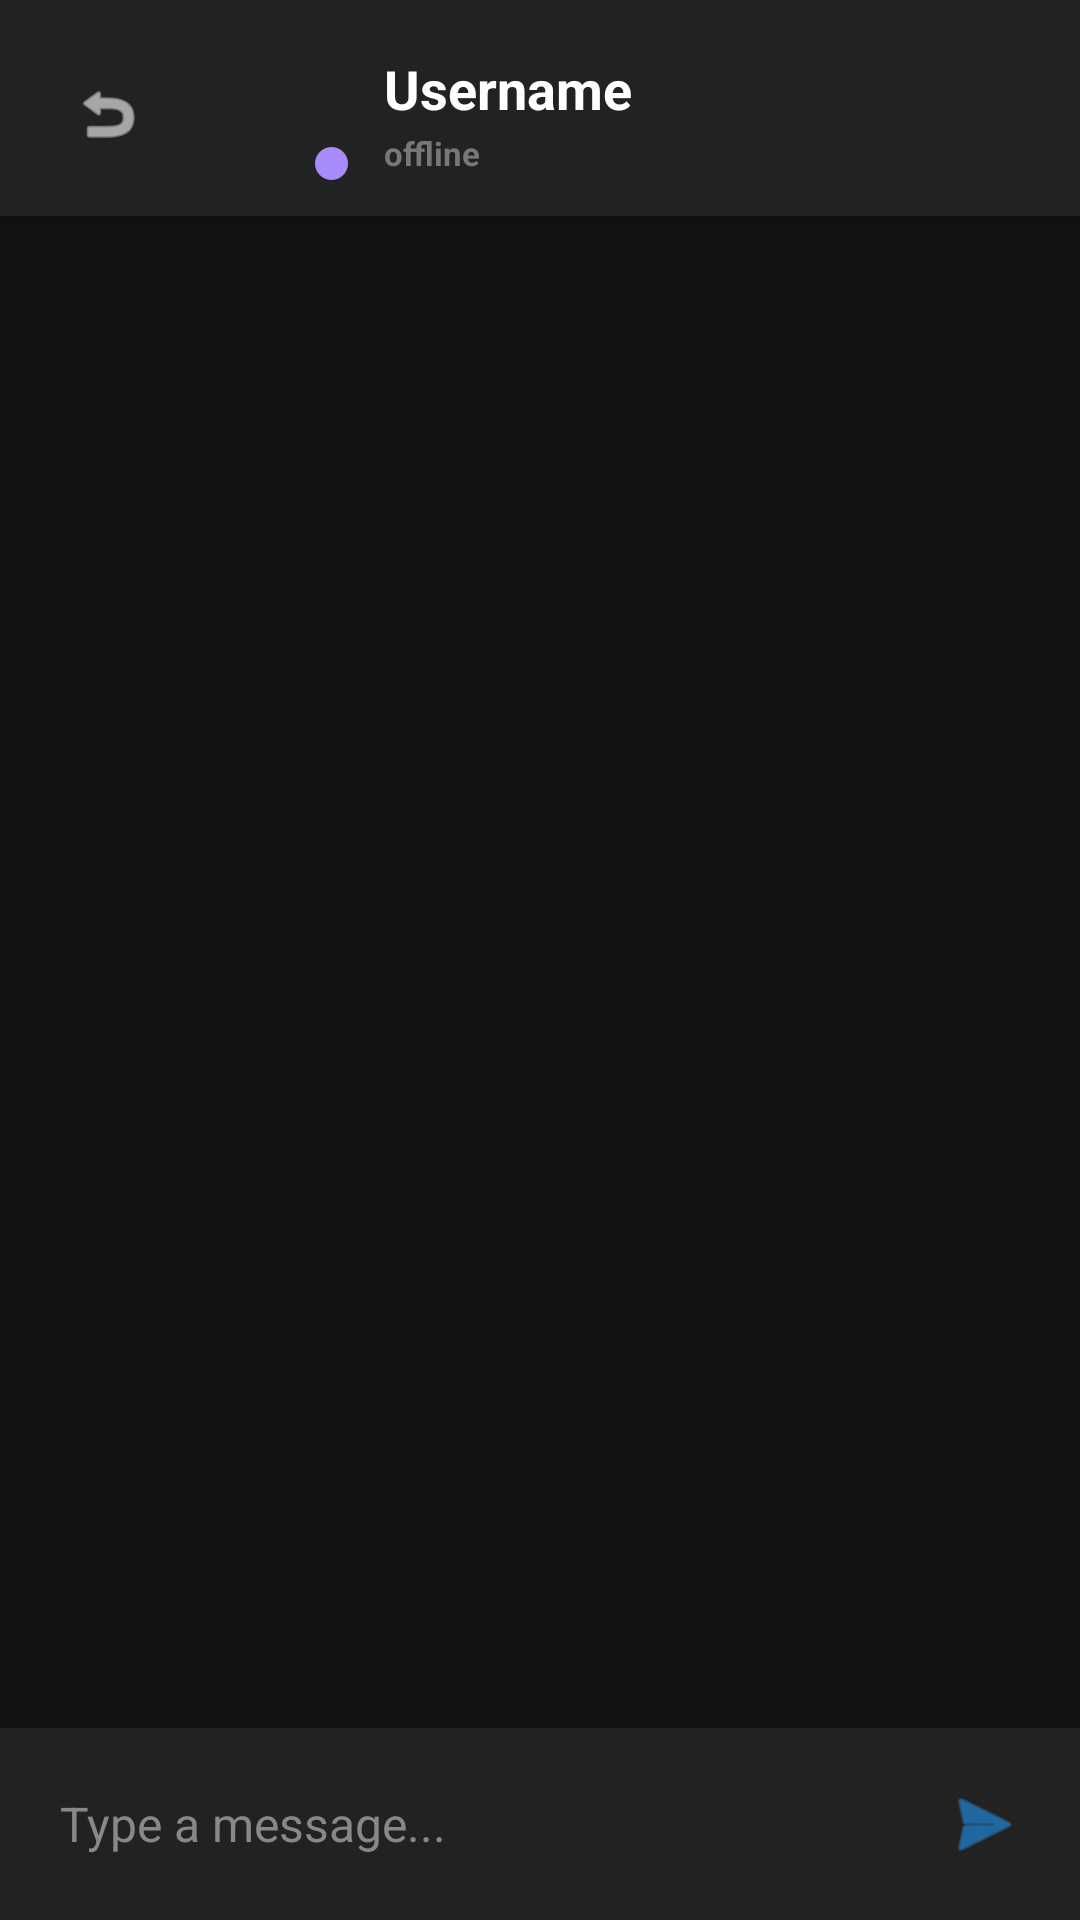

Icons on this 1080w x 1920h Android screen, each with its box as (x1, y1, x2, y2):
Back: (83, 91, 135, 138)
Send: (958, 1798, 1012, 1851)
